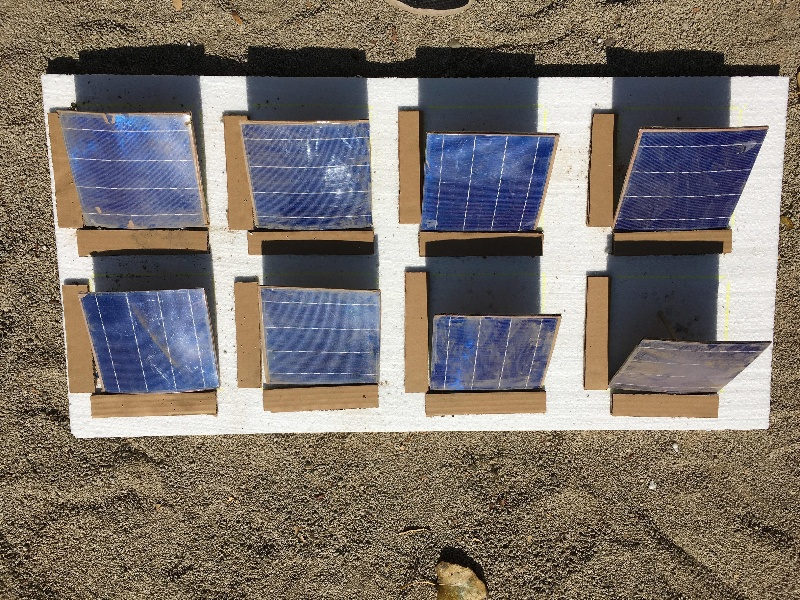clean: (611, 125, 766, 233), (76, 292, 227, 398), (421, 134, 555, 233)
dirty: (424, 315, 568, 396), (608, 334, 772, 400)
semi: (53, 110, 209, 230), (239, 125, 378, 227), (255, 287, 386, 389)
